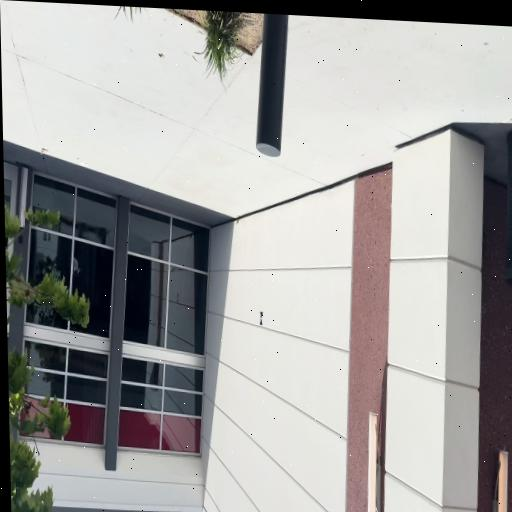target7: (259, 311, 264, 325)
